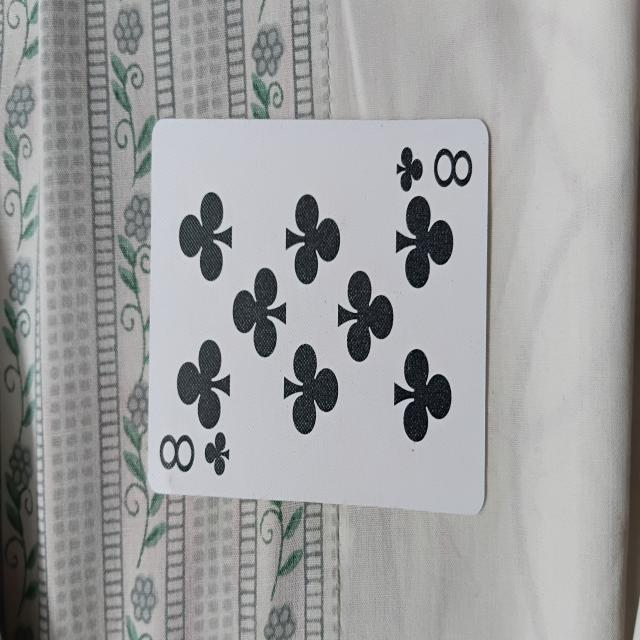8C: (152, 120, 486, 511)
